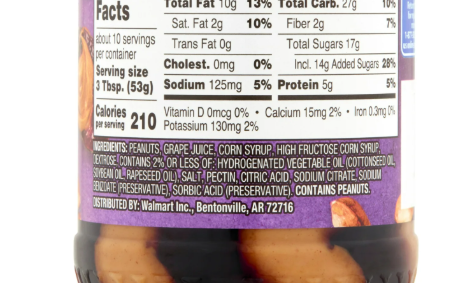l: (88, 139, 398, 197)
